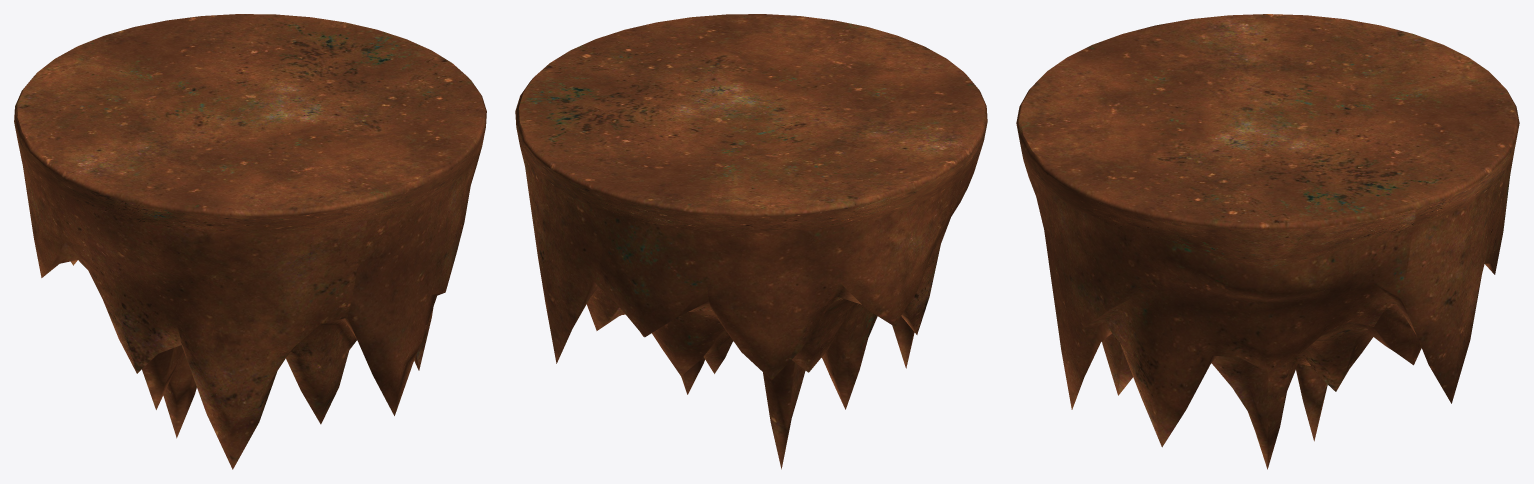
File: rock_platform.glb
3 renders of one model, left to right at view 1: azimuth 30°, elevation 25°; view 2: azimuth 150°, elevation 25°; view 3: azimuth 270°, elevation 25°, orthographic. The views are drawn at different scales.
Visible parts, largest first — view 1: pSphere1; view 2: pSphere1; view 3: pSphere1.
Boxes of the visible parts, x1=… form: pSphere1: x1=14, y1=14, x2=486, y2=469; pSphere1: x1=515, y1=14, x2=987, y2=469; pSphere1: x1=1016, y1=14, x2=1519, y2=469.
Bounding box in the file's own units: 2 × 1.54 × 2.
1 material, 1 textured.
